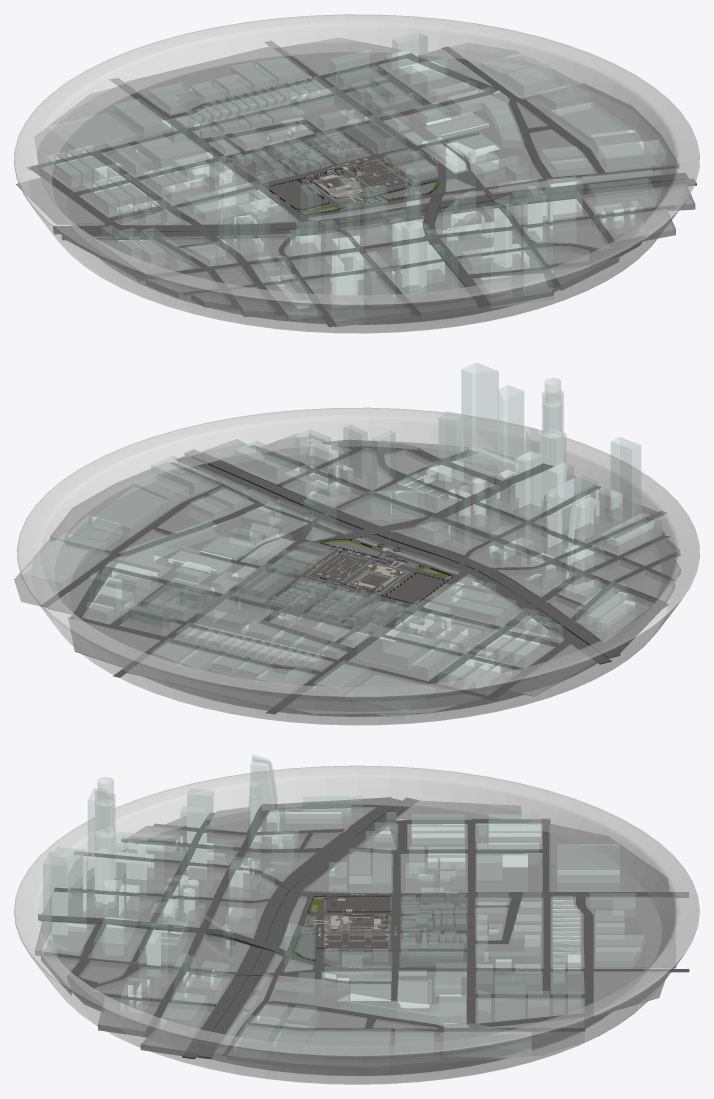
The model's file is others2.glb.
3 views of the same model, one above another, from view 1: azimuth 30°, elevation 25°; view 2: azimuth 150°, elevation 25°; view 3: azimuth 270°, elevation 25° (orthographic).
Parts seen in each view (by area): view 1: transparents sidewalk.001, transparent buildings newbake.001, white wall large.001, ROAD RAW_.002, HQ sidewalk.001, accessory concrete raw.001; view 2: transparent buildings newbake.001, transparents sidewalk.001, white wall large.001, ROAD RAW_.002, HQ sidewalk.001, accessory concrete raw.001; view 3: transparents sidewalk.001, transparent buildings newbake.001, white wall large.001, ROAD RAW_.002, HQ sidewalk.001, accessory concrete raw.001.
Part boxes in pixels (x1,y1,x2,y2): transparents sidewalk.001: [16, 38, 695, 327]; transparent buildings newbake.001: [45, 33, 665, 309]; white wall large.001: [14, 14, 699, 333]; ROAD RAW_.002: [27, 41, 696, 327]; HQ sidewalk.001: [229, 123, 438, 215]; accessory concrete raw.001: [305, 152, 408, 207]; transparent buildings newbake.001: [29, 363, 661, 721]; transparents sidewalk.001: [14, 433, 680, 714]; white wall large.001: [17, 407, 699, 725]; ROAD RAW_.002: [41, 440, 680, 714]; HQ sidewalk.001: [231, 542, 452, 632]; accessory concrete raw.001: [308, 536, 417, 594]; transparents sidewalk.001: [35, 800, 676, 1071]; transparent buildings newbake.001: [43, 754, 644, 1057]; white wall large.001: [14, 765, 699, 1084]; ROAD RAW_.002: [38, 797, 689, 1059]; HQ sidewalk.001: [296, 894, 467, 968]; accessory concrete raw.001: [306, 888, 389, 946].
Size of the model in its own units: 93.94 by 21.04 by 93.94.
6 materials, 5 textured.
